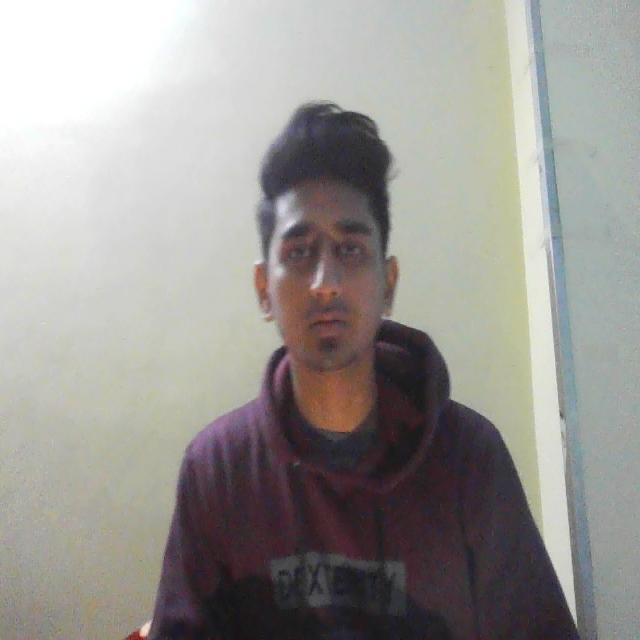real: (251, 114, 405, 406)
